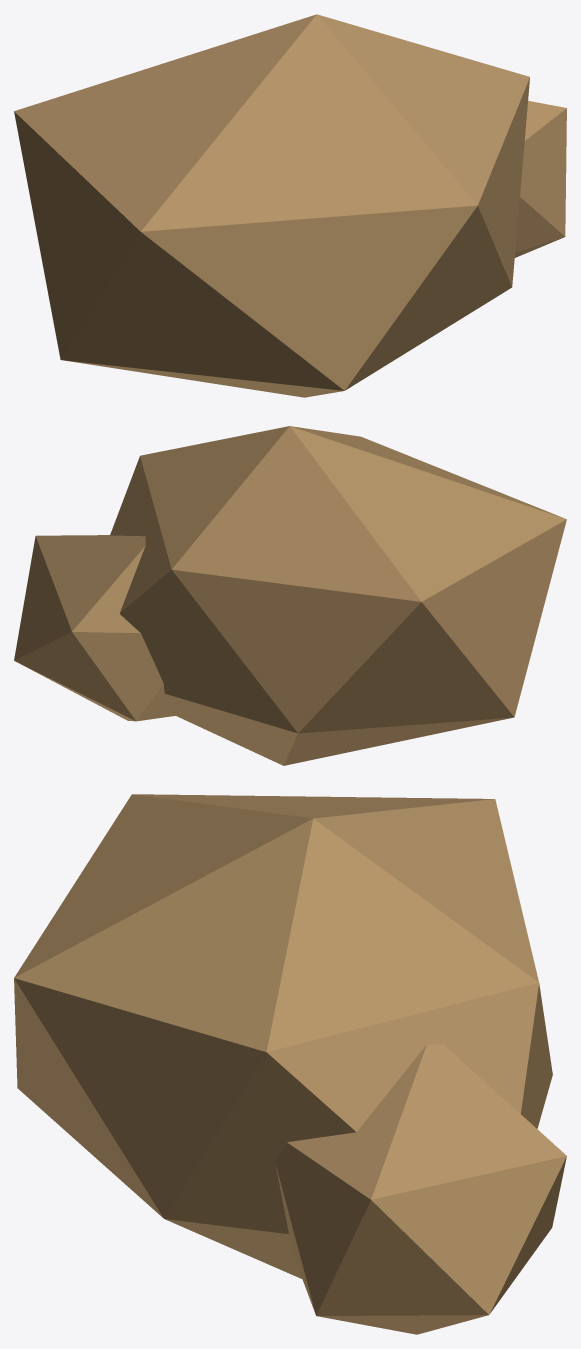
The model's file is RockSand.fbx.
The picture shows the model from 3 angles, top to bottom: view 1: azimuth 30°, elevation 25°; view 2: azimuth 150°, elevation 25°; view 3: azimuth 270°, elevation 25°; orthographic projection. The views are drawn at different scales.
Visible parts, largest first — view 1: RockSand; view 2: RockSand; view 3: RockSand.
Boxes of the visible parts, x1=… form: RockSand: x1=14, y1=14, x2=566, y2=397; RockSand: x1=14, y1=426, x2=566, y2=765; RockSand: x1=14, y1=794, x2=566, y2=1334.
Size of the model in its own units: 1.22 by 0.8488 by 0.8909.
